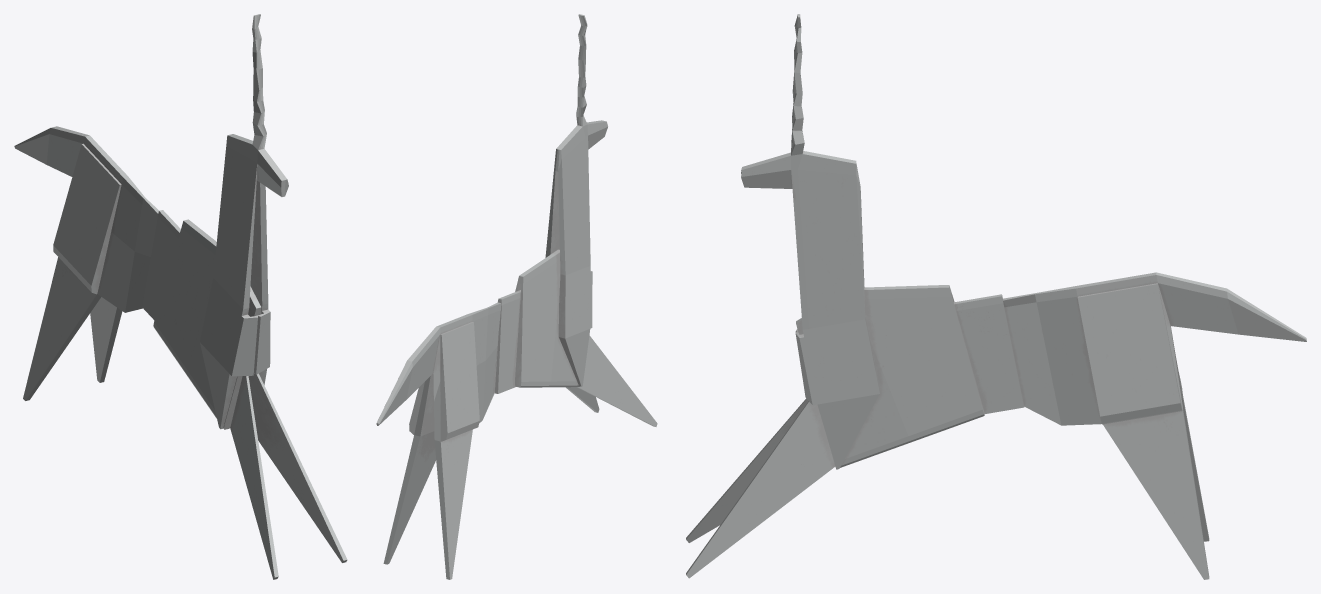
Rendered from unicorn.glb.
3 renders of one model, left to right at view 1: azimuth 30°, elevation 25°; view 2: azimuth 150°, elevation 25°; view 3: azimuth 270°, elevation 25°, orthographic. The views are drawn at different scales.
Parts seen in each view (by area): view 1: Cube_0; view 2: Cube_0; view 3: Cube_0.
Boxes of the visible parts, bbox=[...] form: Cube_0: bbox=[14, 14, 347, 579]; Cube_0: bbox=[376, 14, 657, 579]; Cube_0: bbox=[686, 14, 1306, 579].
Size of the model in its own units: 0.2716 by 1.71 by 1.76.
1 material, 1 textured.
